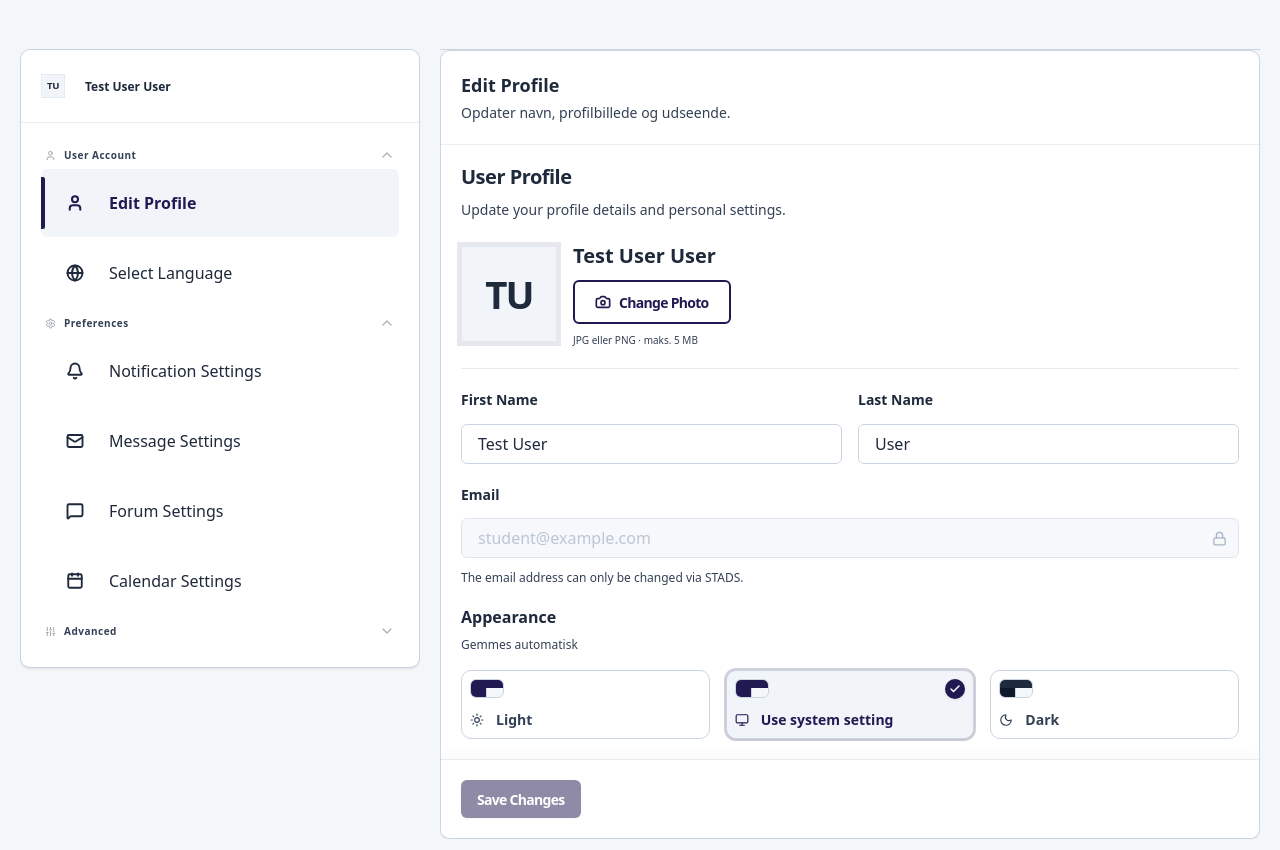
Settings Page › shows empty state in English for non-profile tabs
Step 1. Click the button "Advanced" → (90, 631), box left=41, top=619, right=399, bottom=643
(page scrolled)
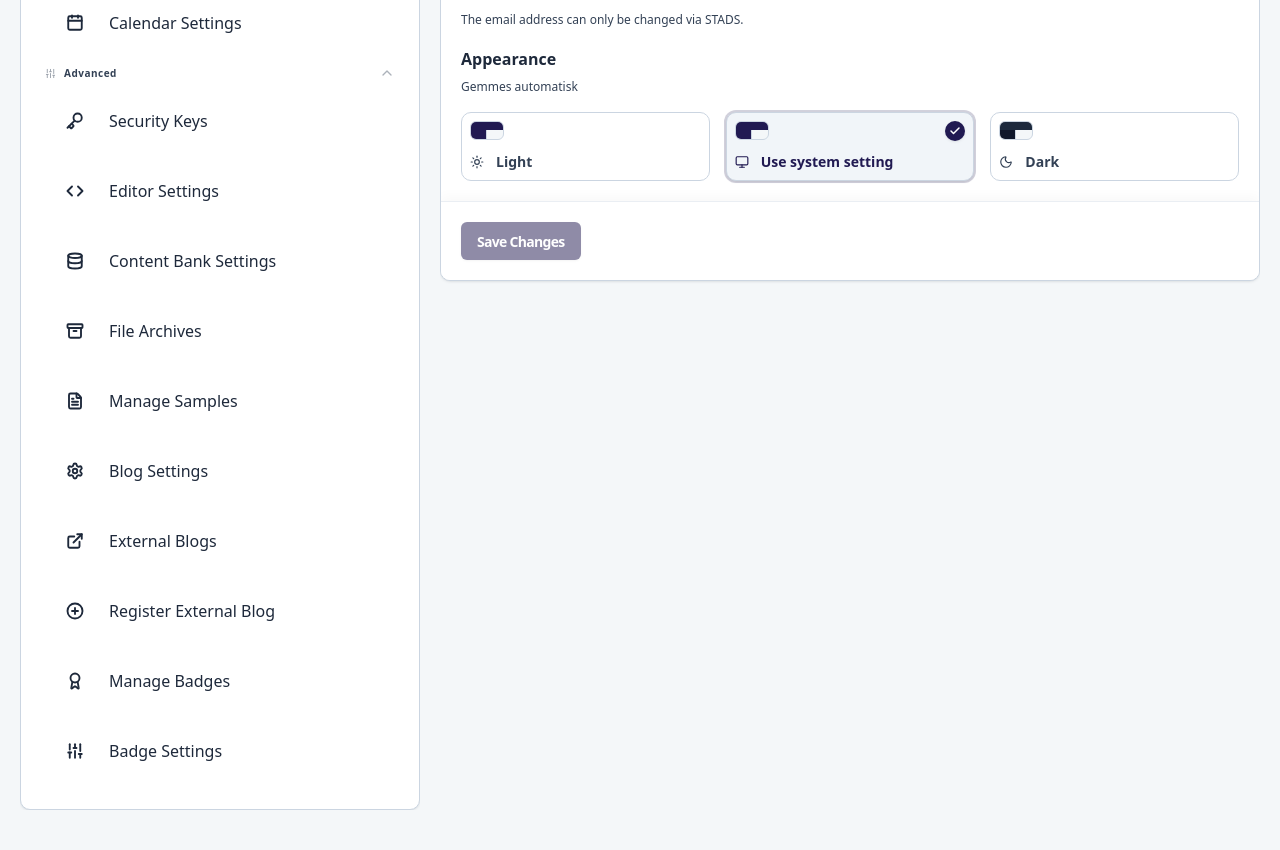
Step 2. Click the button "Blog Settings" → (159, 471), box left=41, top=437, right=399, bottom=505
(page scrolled)
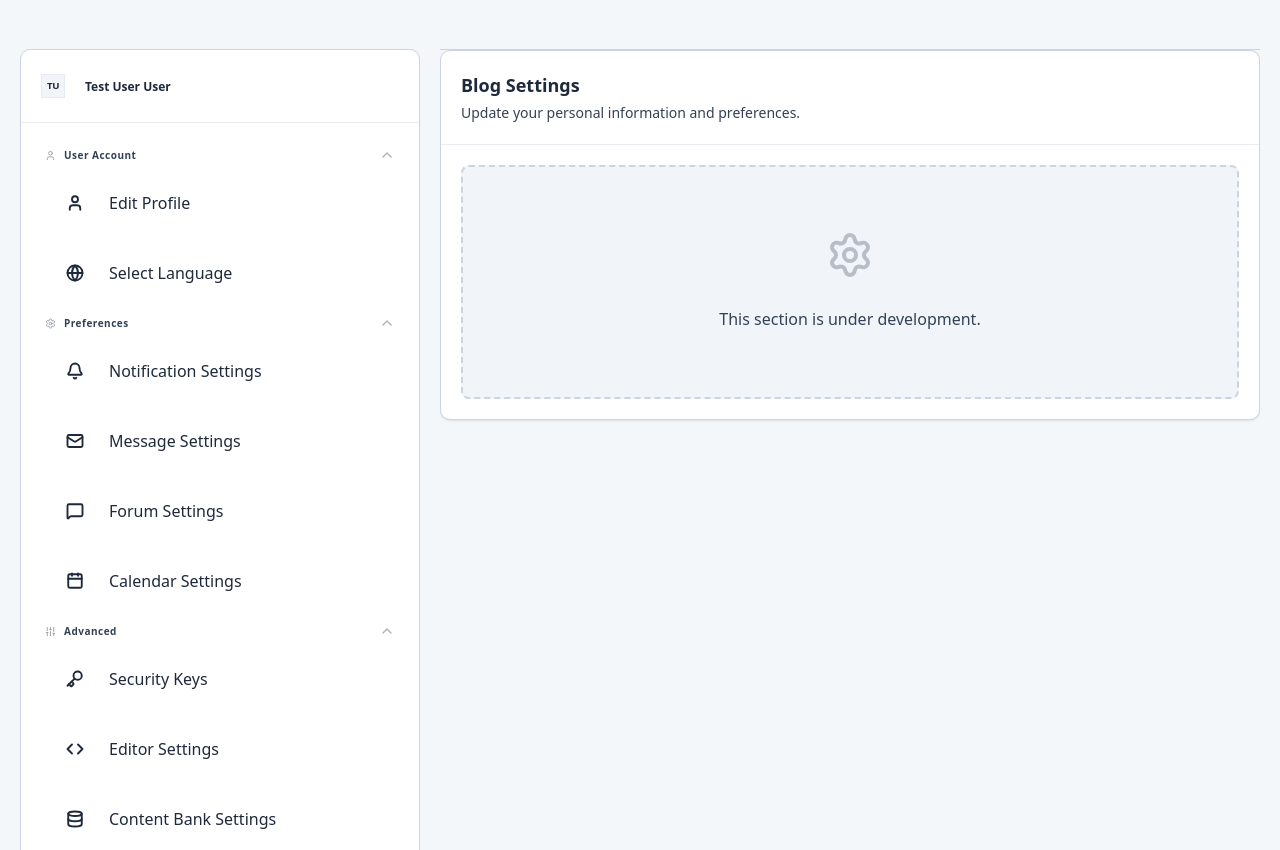
Expected: the text "This section is under development." is shown, left=719, top=307, right=981, bottom=333
